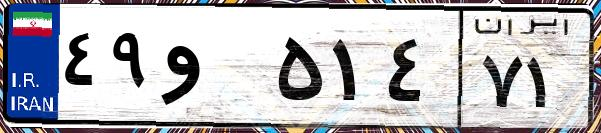1: (330, 28, 385, 110), (525, 38, 570, 115)
4: (385, 28, 445, 110), (57, 26, 110, 100)
5: (270, 28, 330, 110)
7: (475, 38, 525, 113)
9: (110, 28, 158, 98)
و: (158, 20, 270, 120)
